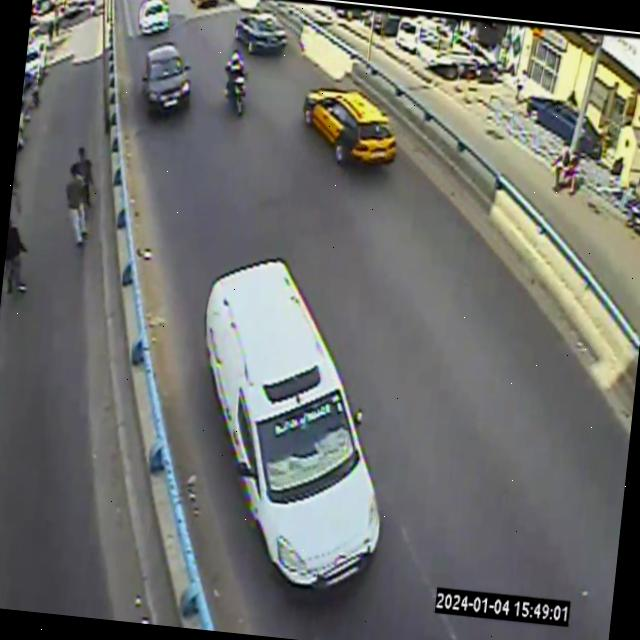car: (205, 258, 379, 587), (302, 86, 396, 164), (141, 42, 191, 113), (234, 12, 285, 53), (137, 0, 169, 33)
